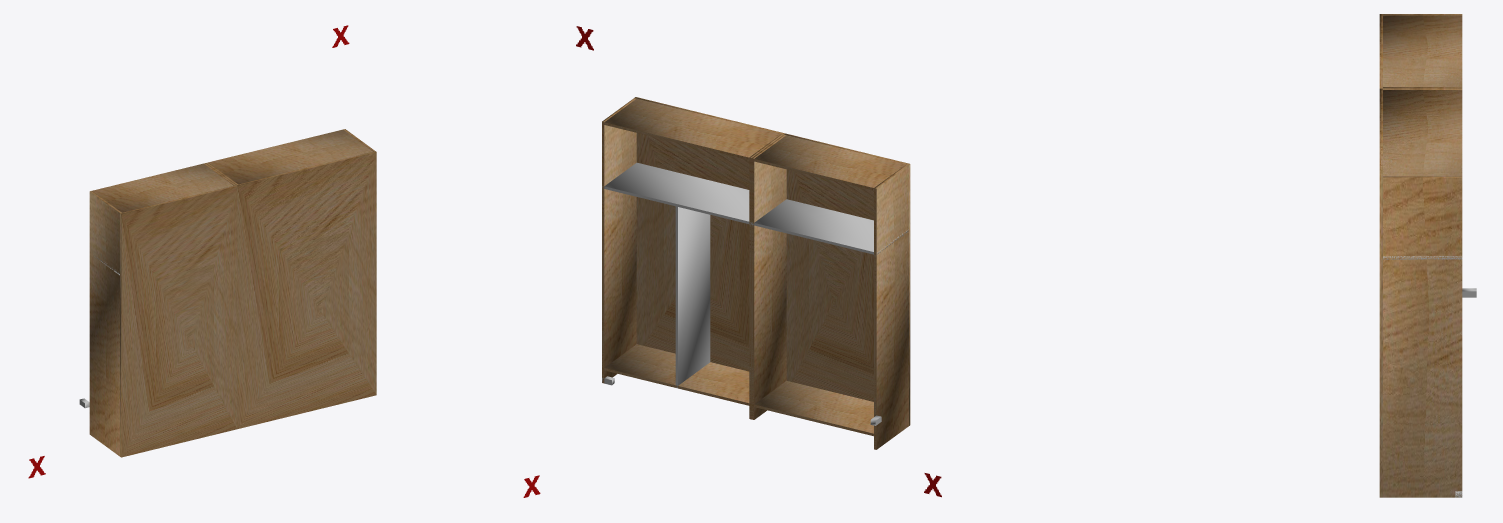
3 renders of one model, left to right at view 1: azimuth 30°, elevation 25°; view 2: azimuth 150°, elevation 25°; view 3: azimuth 270°, elevation 25°, orthographic. The views are drawn at different scales.
Parts seen in each view (by area): view 1: _st_MAIN_BODY_CUBE_100_FACE-back, _st_MAIN_BODY_CUBE_101_FACE-back, _st_MAIN_BODY_CUBE_101_FACE-right, _st_MAIN_BODY_CUBE_100_FACE-top, _st_MAIN_BODY_CUBE_101_FACE-top; view 2: _st_MAIN_BODY_CUBE_101_FACE-back, _st_MAIN_BODY_CUBE_100_FACE-back, _st_MAIN_BODY_CUBE_101_FACE-right, _st_MAIN_BODY_CUBE_101_FACE-left, _st_MAIN_BODY_CUBE_100_FACE-left, _st_MAIN_BODY_CUBE_100_DIVISION-0-0, _st_MAIN_BODY_CUBE_100_FACE-top, _st_MAIN_BODY_CUBE_100_LEVEL-1, _st_MAIN_BODY_CUBE_101_FACE-top, _st_MAIN_BODY_CUBE_100_FACE-bottom, _st_MAIN_BODY_CUBE_101_LEVEL-1, _st_MAIN_BODY_CUBE_101_FACE-bottom (+1 smaller); view 3: _st_MAIN_BODY_CUBE_100_FACE-left, _st_MAIN_BODY_CUBE_100_FACE-top, _st_MAIN_BODY_CUBE_101_FACE-top, _st_MAIN_BODY_CUBE_100_FACE-back.
Part boxes in pixels (left/top/right/bottom): _st_MAIN_BODY_CUBE_100_FACE-back: left=236, top=151, right=376, bottom=428; _st_MAIN_BODY_CUBE_101_FACE-back: left=120, top=185, right=237, bottom=457; _st_MAIN_BODY_CUBE_101_FACE-right: left=89, top=191, right=121, bottom=456; _st_MAIN_BODY_CUBE_100_FACE-top: left=208, top=129, right=372, bottom=184; _st_MAIN_BODY_CUBE_101_FACE-top: left=92, top=163, right=233, bottom=212; _st_MAIN_BODY_CUBE_101_FACE-back: left=784, top=133, right=910, bottom=425; _st_MAIN_BODY_CUBE_100_FACE-back: left=634, top=97, right=785, bottom=371; _st_MAIN_BODY_CUBE_101_FACE-right: left=874, top=164, right=908, bottom=449; _st_MAIN_BODY_CUBE_101_FACE-left: left=751, top=134, right=786, bottom=419; _st_MAIN_BODY_CUBE_100_FACE-left: left=602, top=98, right=636, bottom=383; _st_MAIN_BODY_CUBE_100_DIVISION-0-0: left=675, top=206, right=710, bottom=388; _st_MAIN_BODY_CUBE_100_FACE-top: left=604, top=98, right=780, bottom=159; _st_MAIN_BODY_CUBE_100_LEVEL-1: left=602, top=162, right=751, bottom=224; _st_MAIN_BODY_CUBE_101_FACE-top: left=754, top=135, right=905, bottom=190; _st_MAIN_BODY_CUBE_100_FACE-bottom: left=604, top=344, right=749, bottom=405; _st_MAIN_BODY_CUBE_101_LEVEL-1: left=751, top=199, right=908, bottom=254; _st_MAIN_BODY_CUBE_101_FACE-bottom: left=754, top=380, right=873, bottom=436; _st_MAIN_BODY_CUBE_100_FACE-left: left=1383, top=176, right=1462, bottom=497; _st_MAIN_BODY_CUBE_100_FACE-top: left=1383, top=90, right=1462, bottom=176; _st_MAIN_BODY_CUBE_101_FACE-top: left=1383, top=15, right=1462, bottom=86; _st_MAIN_BODY_CUBE_100_FACE-back: left=1379, top=88, right=1382, bottom=497.
Bounding box in the file's own units: 3 × 3.15 × 2.85.
6 materials, 5 textured.
